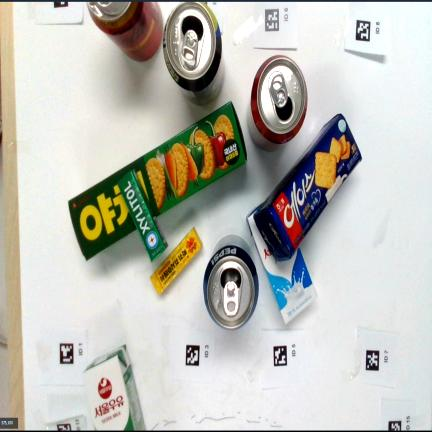can_coke_decaf: (87, 2, 162, 61)
can_coke_zero: (248, 55, 307, 151)
can_pepsi: (203, 236, 259, 329)
can_pepsi_zero: (163, 2, 224, 105)
cracker_ace: (254, 114, 361, 261)
cracker_vege: (68, 101, 247, 260)
gum_green: (119, 172, 165, 261)
gum_yellow: (150, 227, 202, 294)
milk_blue: (248, 213, 316, 323)
milk_green: (84, 345, 145, 430)
